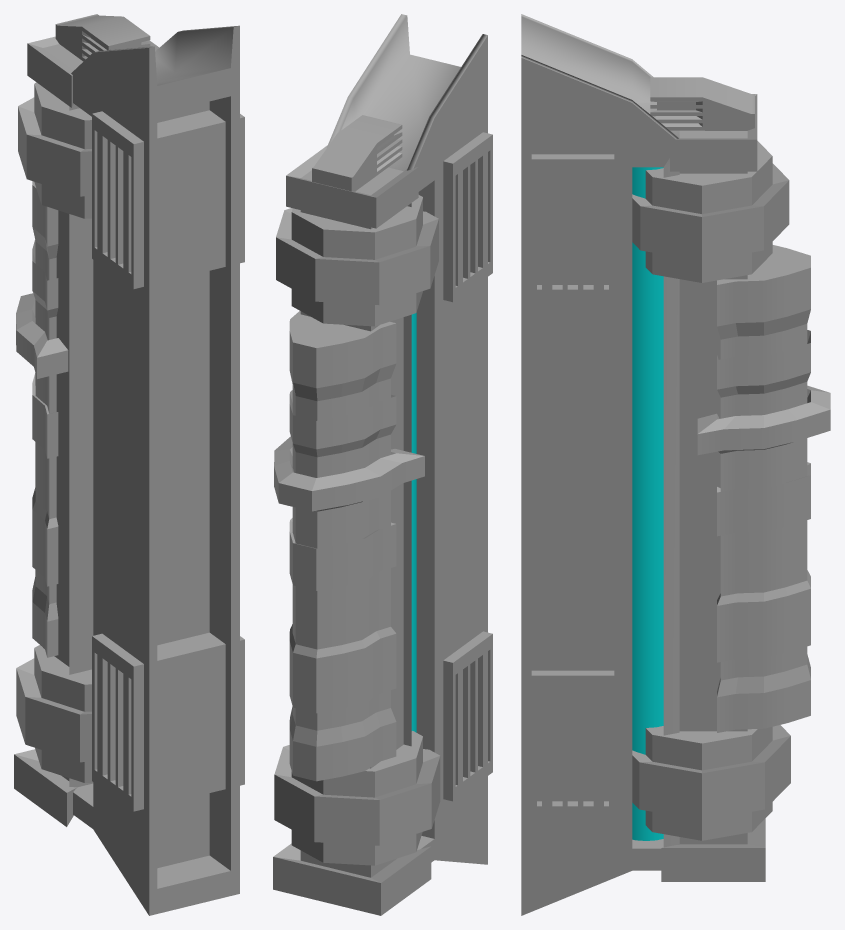
Rendered from Keycardoor.fbx.
3 renders of one model, left to right at view 1: azimuth 30°, elevation 25°; view 2: azimuth 150°, elevation 25°; view 3: azimuth 270°, elevation 25°, orthographic. The views are drawn at different scales.
Parts seen in each view (by area): view 1: KeyCardDoor; view 2: KeyCardDoor; view 3: KeyCardDoor.
Boxes of the visible parts, left/top/right/bottom form: KeyCardDoor: left=14, top=14, right=244, bottom=915; KeyCardDoor: left=273, top=14, right=492, bottom=915; KeyCardDoor: left=521, top=14, right=830, bottom=915.
Bounding box in the file's own units: 1.12 × 5.99 × 1.95.
